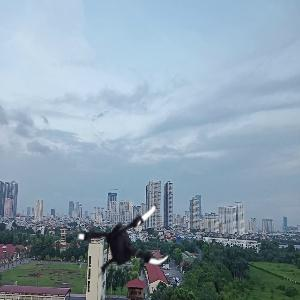drone: (69, 190, 175, 296)
